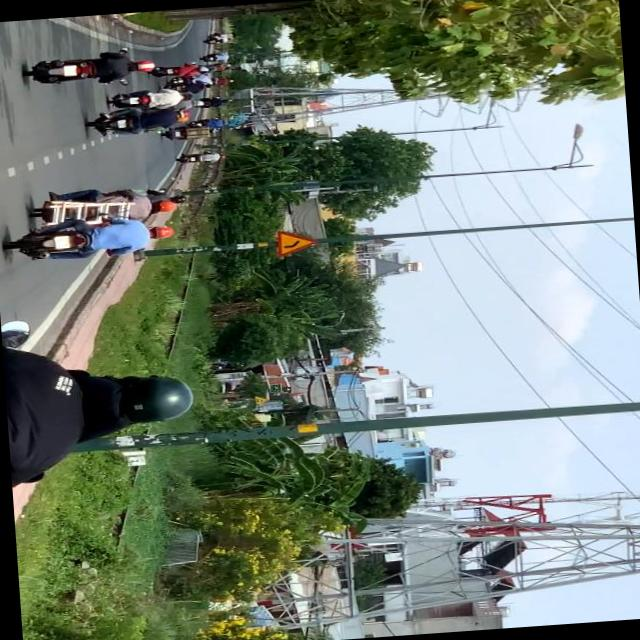W-201a: (276, 228, 316, 258)
